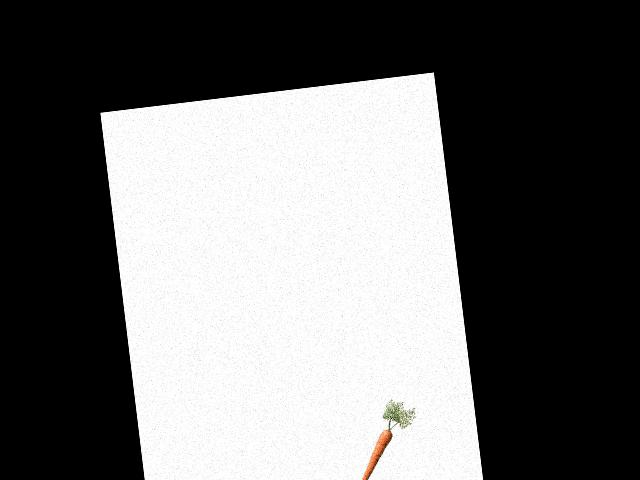carrot: (354, 423, 399, 480)
